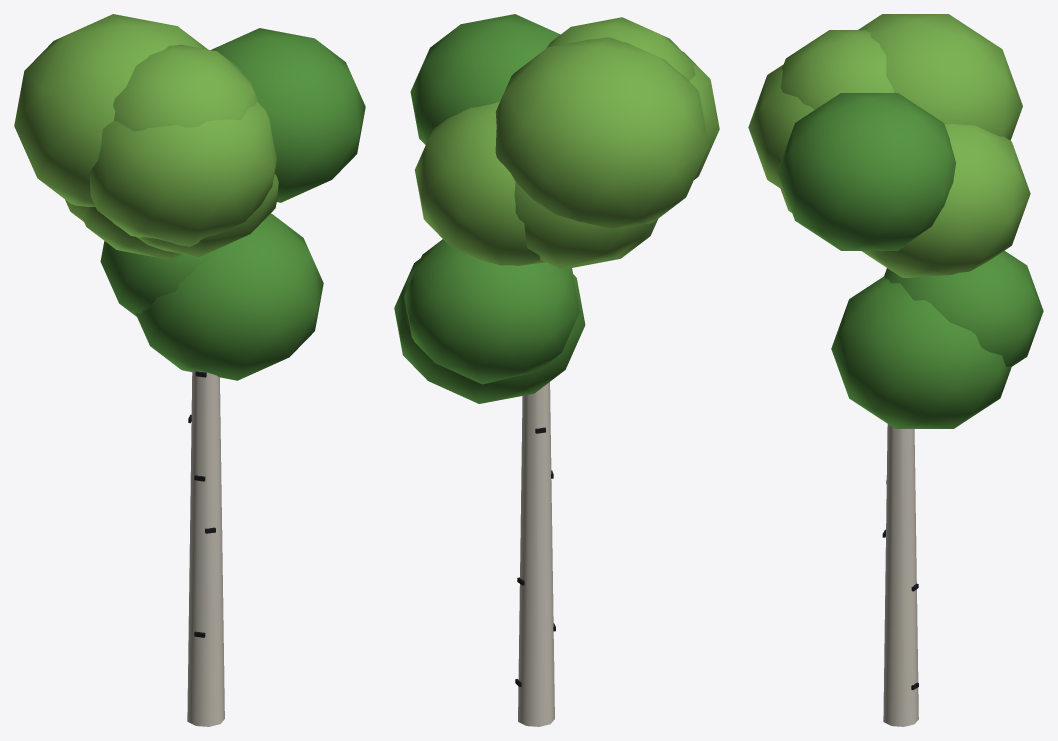
Rendered from arbre_prairie_2.glb.
3 views of the same model, side by side, from view 1: azimuth 30°, elevation 25°; view 2: azimuth 150°, elevation 25°; view 3: azimuth 270°, elevation 25° (orthographic). The views are drawn at different scales.
Visible parts, largest first — view 1: feuillage_feuille_claire.008, feuillage_feuille.012, tronc.012; view 2: feuillage_feuille_claire.008, feuillage_feuille.012, tronc.012; view 3: feuillage_feuille.012, feuillage_feuille_claire.008, tronc.012.
Boxes of the visible parts, x1,y1,x2,y2 form: feuillage_feuille_claire.008: [14, 14, 278, 259]; feuillage_feuille.012: [100, 28, 365, 380]; tronc.012: [187, 370, 224, 726]; feuillage_feuille_claire.008: [415, 17, 719, 268]; feuillage_feuille.012: [394, 14, 585, 403]; tronc.012: [518, 382, 554, 726]; feuillage_feuille.012: [777, 93, 1043, 428]; feuillage_feuille_claire.008: [748, 14, 1030, 277]; tronc.012: [883, 424, 918, 726].
Bounding box in the file's own units: 1.94 × 4.43 × 1.78.
